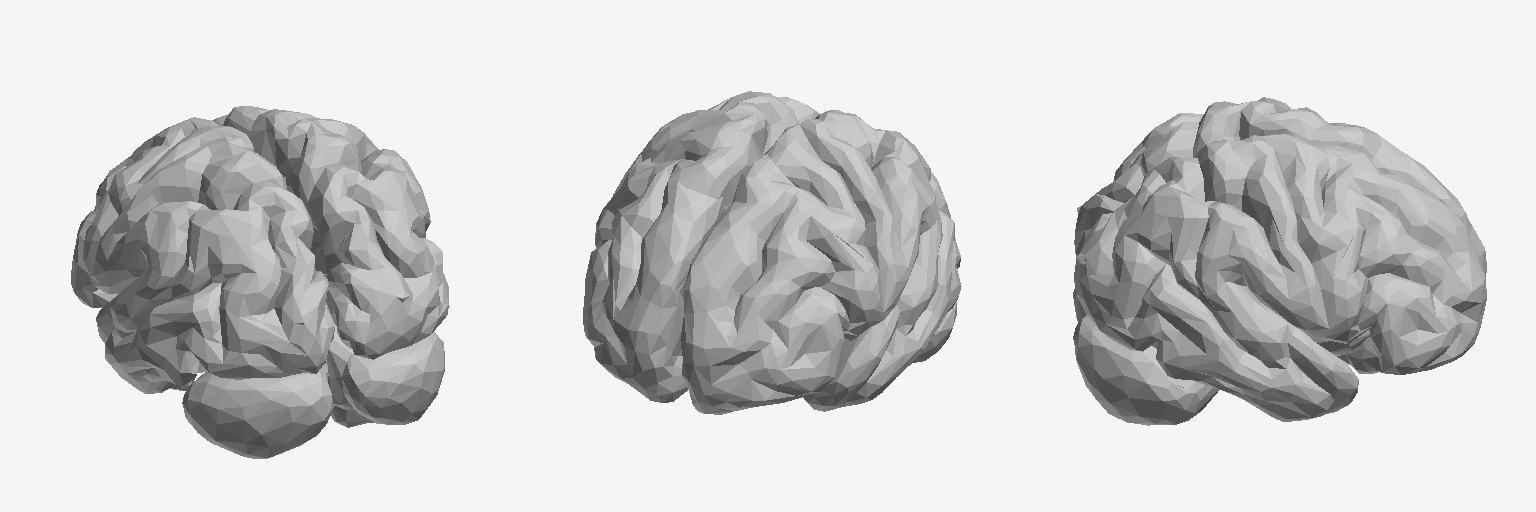
Rendered from Free_Brain.obj.
3 renders of one model, left to right at view 1: azimuth 30°, elevation 25°; view 2: azimuth 150°, elevation 25°; view 3: azimuth 270°, elevation 25°, orthographic.
Visible parts, largest first — view 1: Free_Brain; view 2: Free_Brain; view 3: Free_Brain.
Part boxes in pixels (bbox=[...]): Free_Brain: bbox=[71, 106, 449, 458]; Free_Brain: bbox=[583, 91, 961, 414]; Free_Brain: bbox=[1073, 97, 1486, 425].
Bounding box in the file's own units: 0.4942 × 0.4192 × 0.5851.